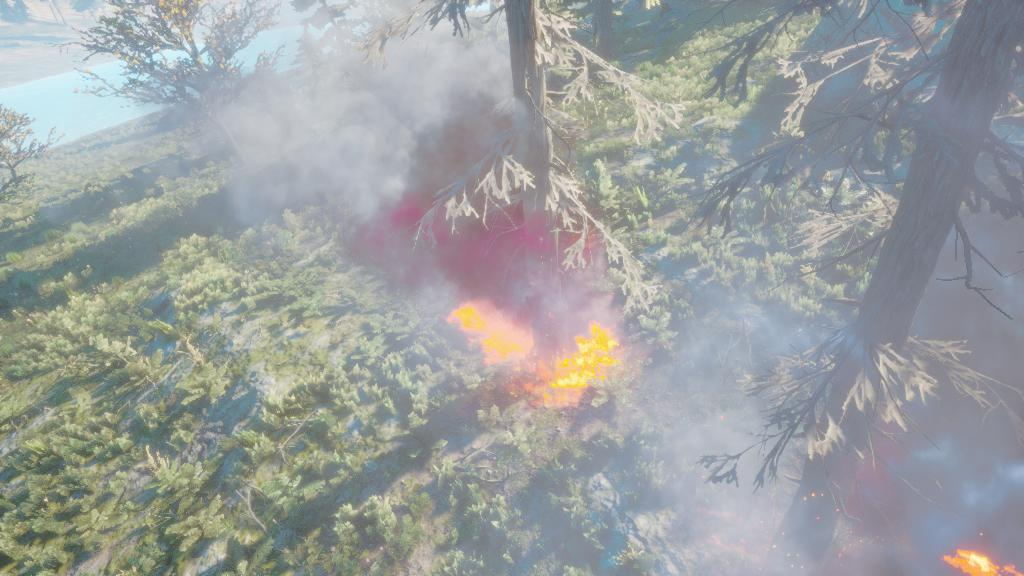Fire: (435, 285, 655, 421)
smoke: (634, 281, 1023, 575), (201, 0, 535, 247)
